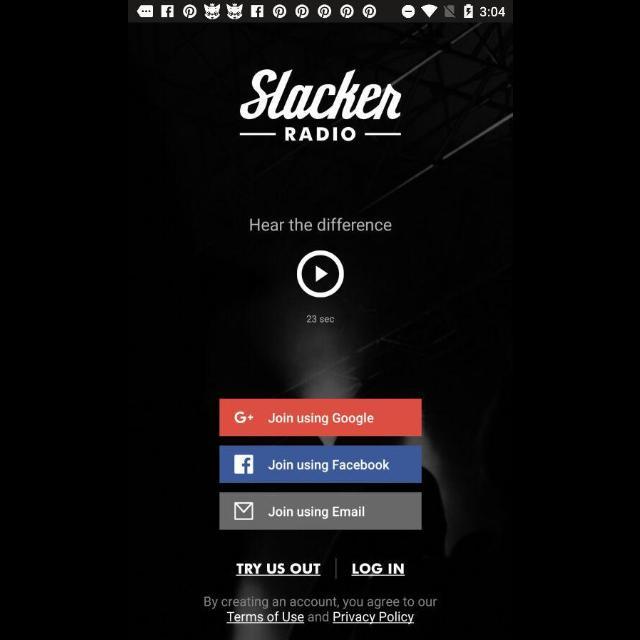icon: (296, 250, 344, 298)
image: (240, 70, 400, 142)
text: (204, 596, 436, 624), (249, 218, 391, 232), (236, 564, 320, 576), (350, 562, 404, 576), (306, 314, 334, 324)
textbutton: (218, 398, 422, 436), (219, 492, 421, 530), (219, 445, 421, 483)
uppertaskbar: (128, 1, 512, 23)
